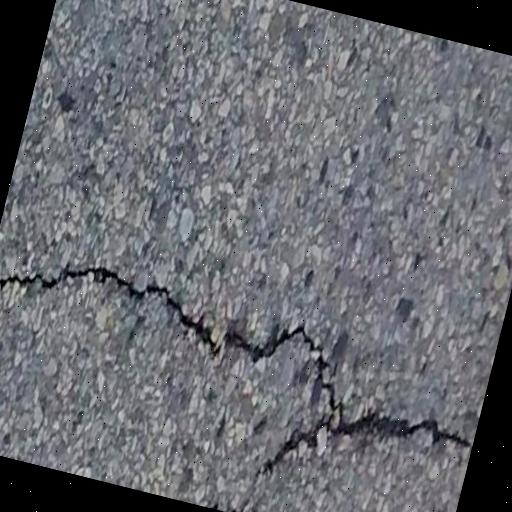spalling: (0, 256, 472, 496)
